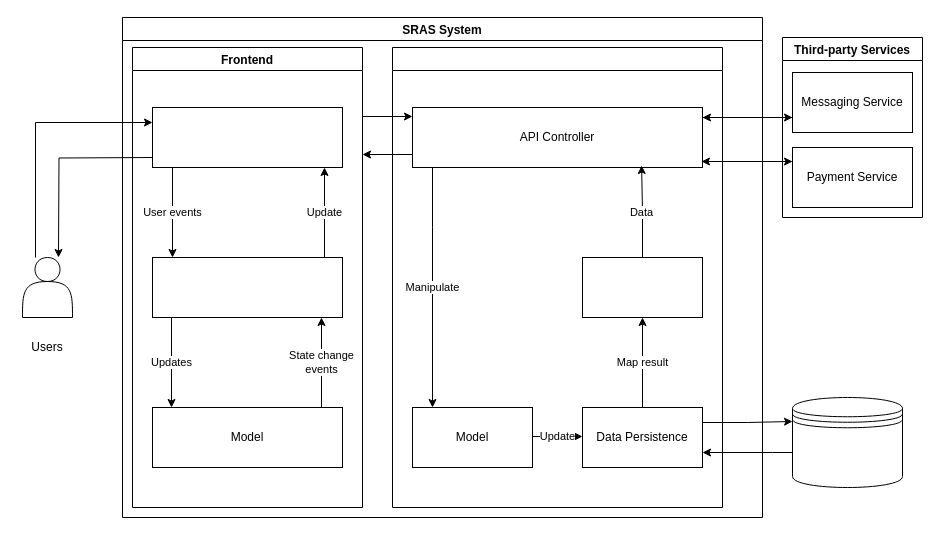
Image size: 940x535. Some labels were removed from this diagram. The box of each missing label's shape, as (x1, y1, x2, y2) in pixels:
Backend: (392, 46, 722, 508)
Data Mapper: (582, 256, 702, 318)
Database: (792, 396, 902, 488)
Presenter: (152, 256, 342, 318)
View: (152, 106, 342, 168)
